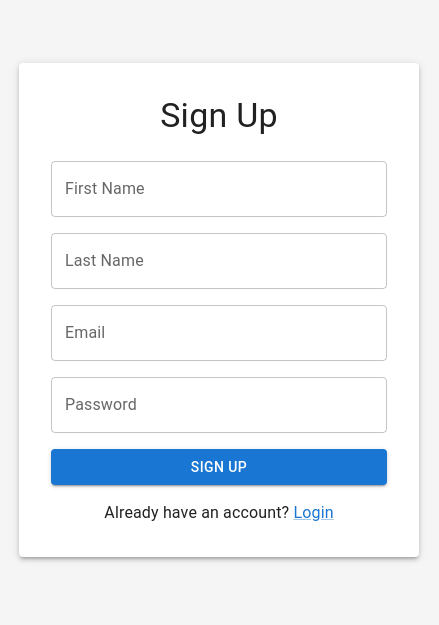
Test: SignupForm › shows validation errors when submitted empty
Click the button "Sign Up" at (219, 467), box 51,449 -> 387,485
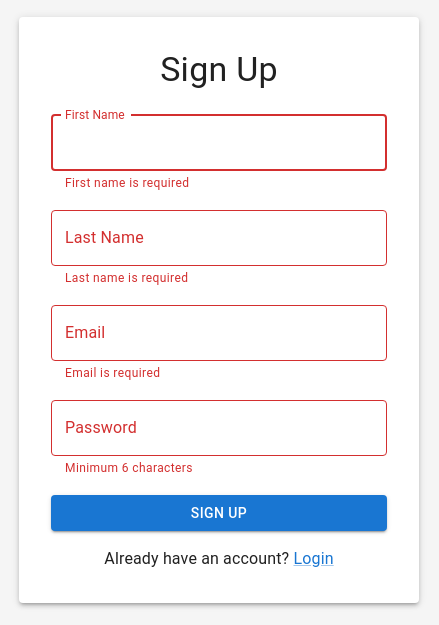
Now the text "First name is required" is shown, box 65,176 -> 189,190
Now the text "Last name is required" is shown, box 65,271 -> 188,285
Now the text "Email is required" is shown, box 65,366 -> 160,380
